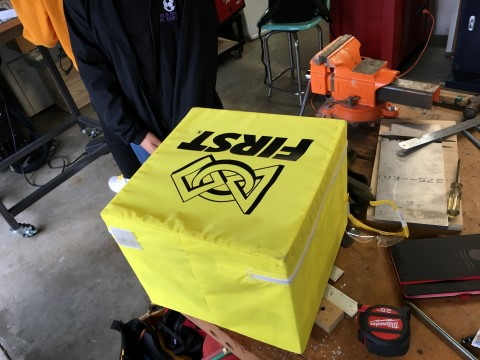cube: (98, 105, 349, 356)
